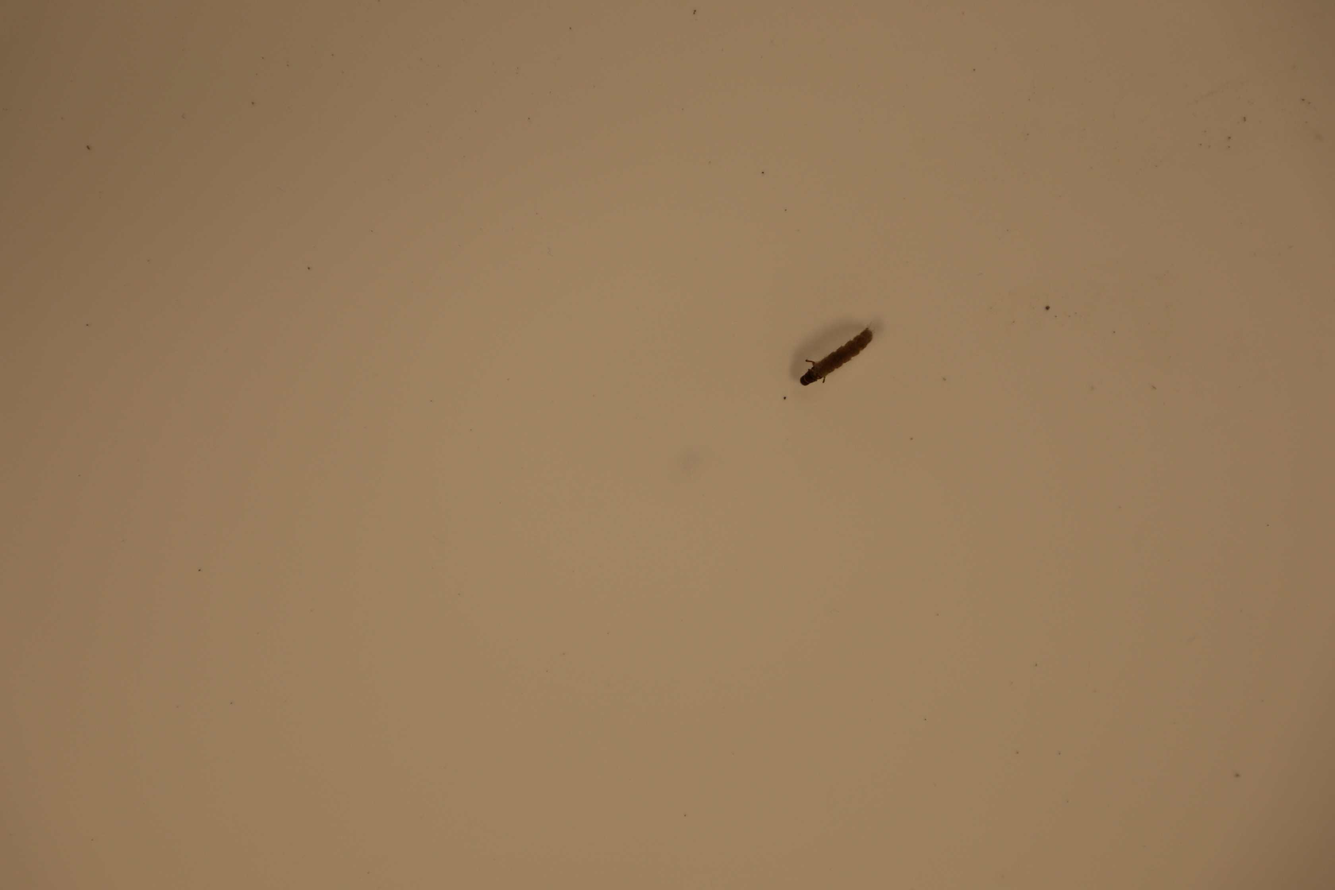Cadisfly: (793, 317, 873, 391)
